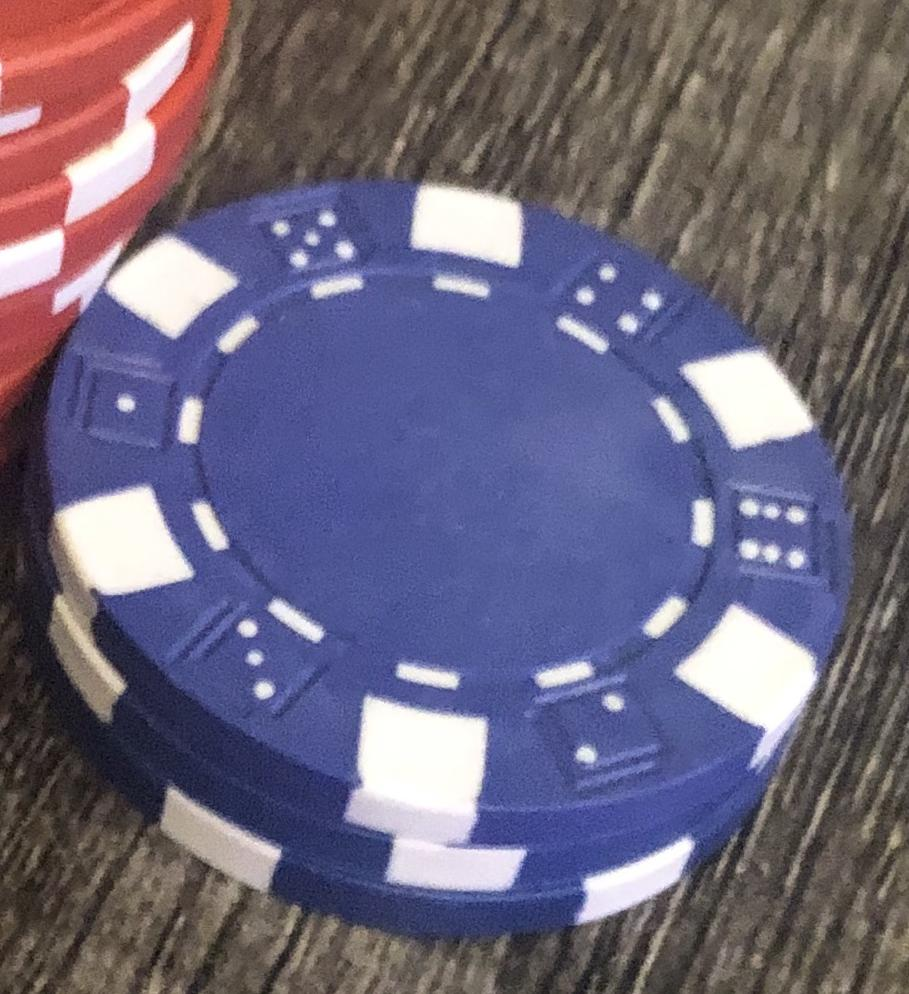Chip: (1, 1, 909, 994)
